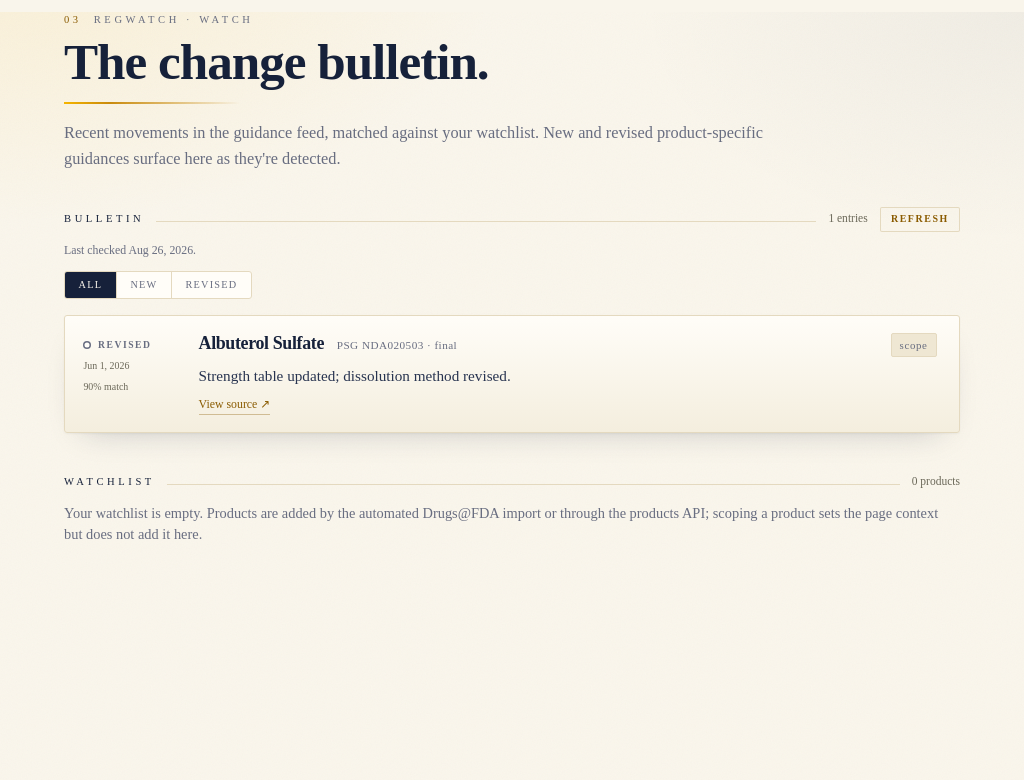
Scenario: WatchPage -- the change bulletin (surface 03) › a zero-match facet says so instead of reading as an empty feed
Expected: the text "Albuterol Sulfate" is shown, [199,334,324,352]
Click the button "New".
click(143, 285)  # box [116,272,171,298]
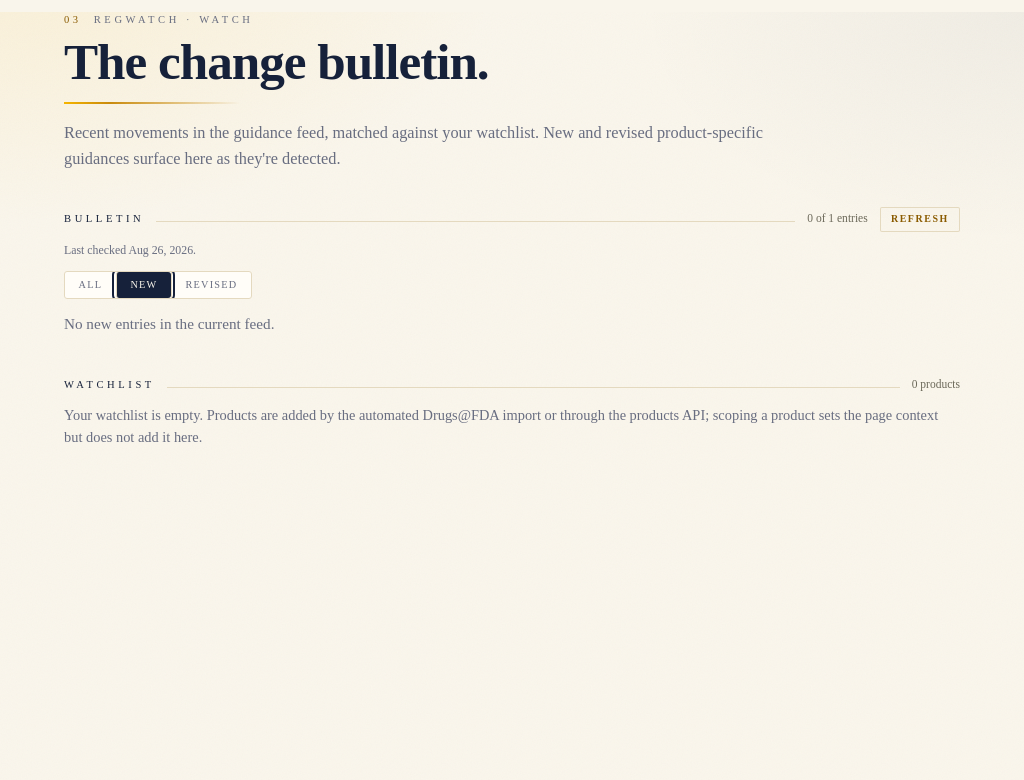
Expected: the text "0 of 1 entries" is shown, [807,210,868,227]
Expected: the text "No new entries in the current feed." is shown, [64,315,274,332]
